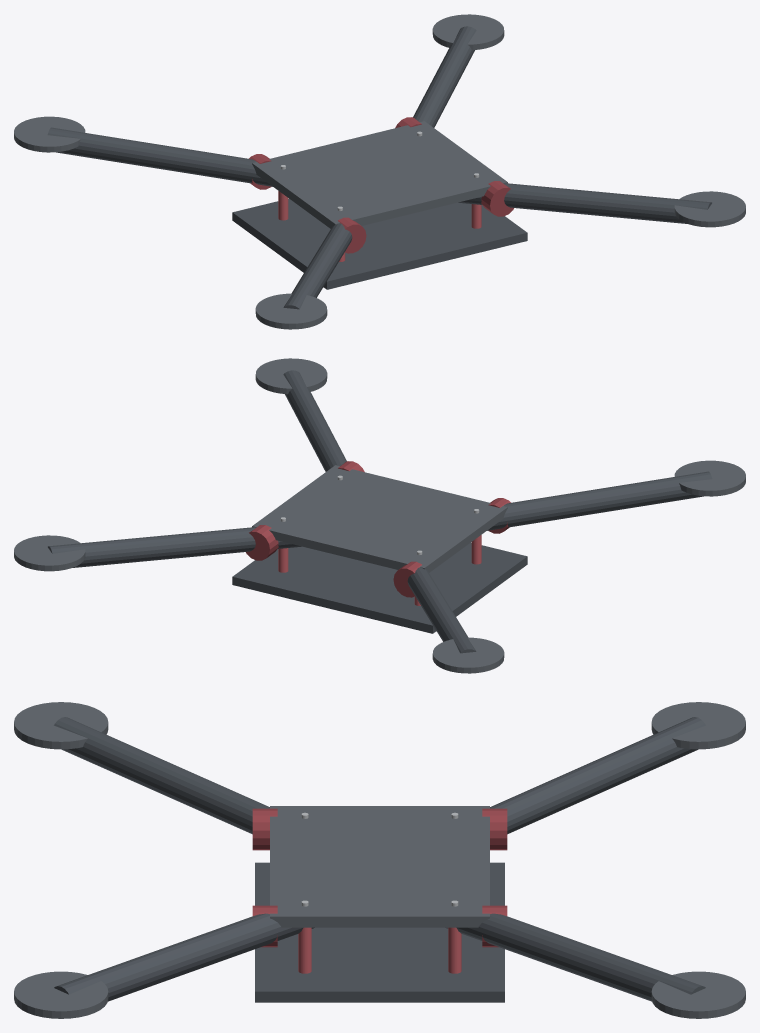
File: frame_450.glb
3 renders of one model, top to bottom at view 1: azimuth 30°, elevation 25°; view 2: azimuth 150°, elevation 25°; view 3: azimuth 270°, elevation 25°, orthographic. The views are drawn at different scales.
Visible parts, largest first — view 1: top_plate, bottom_plate, arm_M4, arm_M2, arm_M1, arm_M3, motor_mount_M3, motor_mount_M2, motor_mount_M4, motor_mount_M1, arm_clamp_M2, arm_clamp_M3; view 2: top_plate, bottom_plate, arm_M3, arm_M1, arm_M2, arm_M4, motor_mount_M4, motor_mount_M1, motor_mount_M3, motor_mount_M2, arm_clamp_M1, arm_clamp_M4; view 3: top_plate, bottom_plate, arm_M3, arm_M4, arm_M1, arm_M2, motor_mount_M1, motor_mount_M2, motor_mount_M3, motor_mount_M4, arm_clamp_M3, arm_clamp_M4 (+2 smaller).
Boxes of the visible parts, box(x1,y1,x2,y2) form: top_plate: box(252, 121, 507, 228); bottom_plate: box(232, 198, 527, 289); arm_M4: box(47, 127, 272, 186); arm_M2: box(458, 183, 711, 223); arm_M1: box(413, 26, 476, 127); arm_M3: box(283, 223, 352, 309); motor_mount_M3: box(255, 293, 327, 329); motor_mount_M2: box(674, 191, 745, 227); motor_mount_M4: box(14, 116, 85, 152); motor_mount_M1: box(432, 14, 504, 50); arm_clamp_M2: box(481, 181, 513, 216); arm_clamp_M3: box(338, 217, 366, 253); top_plate: box(252, 465, 507, 572); bottom_plate: box(232, 542, 527, 633); arm_M3: box(487, 471, 712, 530); arm_M1: box(48, 527, 301, 567); arm_M2: box(283, 370, 346, 471); arm_M4: box(407, 567, 476, 653); motor_mount_M4: box(432, 637, 504, 673); motor_mount_M1: box(14, 535, 85, 571); motor_mount_M3: box(674, 460, 745, 496); motor_mount_M2: box(255, 358, 327, 394); arm_clamp_M1: box(246, 525, 278, 560); arm_clamp_M4: box(393, 561, 421, 597); top_plate: box(270, 806, 489, 927); bottom_plate: box(255, 862, 504, 1002); arm_M3: box(54, 717, 269, 834); arm_M4: box(490, 717, 705, 834); arm_M1: box(445, 913, 705, 1001); arm_M2: box(54, 913, 314, 1001); motor_mount_M1: box(651, 971, 745, 1018); motor_mount_M2: box(14, 971, 108, 1018); motor_mount_M3: box(14, 702, 108, 749); motor_mount_M4: box(651, 702, 745, 749); arm_clamp_M3: box(252, 808, 277, 850); arm_clamp_M4: box(482, 808, 507, 850).
Bounding box in the file's own units: 0.3653 × 0.0472 × 0.3653.
